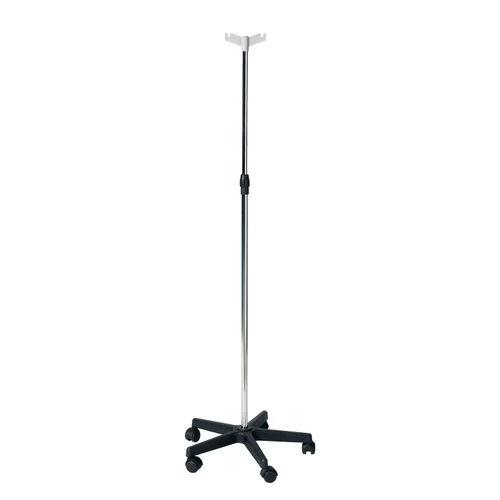Saline Stand: (183, 29, 316, 483)
